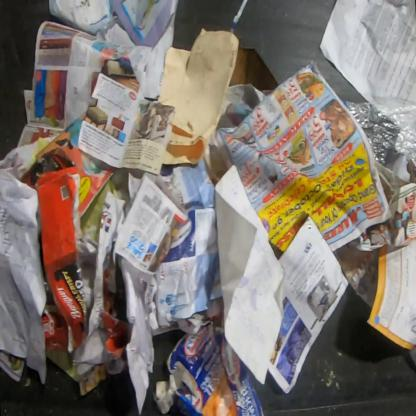cardboard: (153, 311, 265, 416), (31, 166, 93, 355), (229, 46, 280, 96), (99, 310, 133, 360)
soft_plastic: (340, 95, 415, 172)
